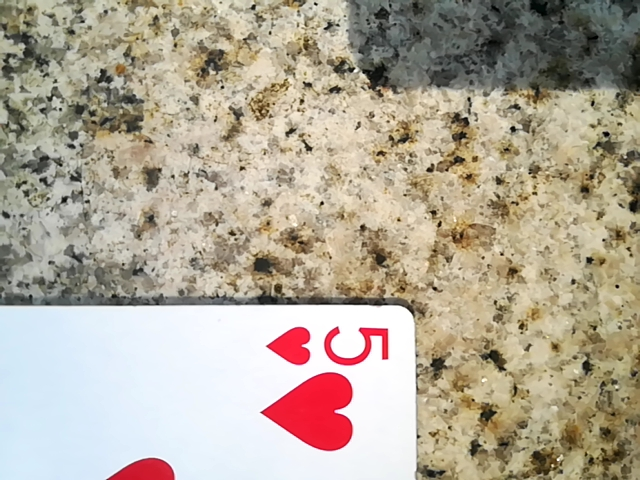hx 5: (9, 303, 422, 480)
